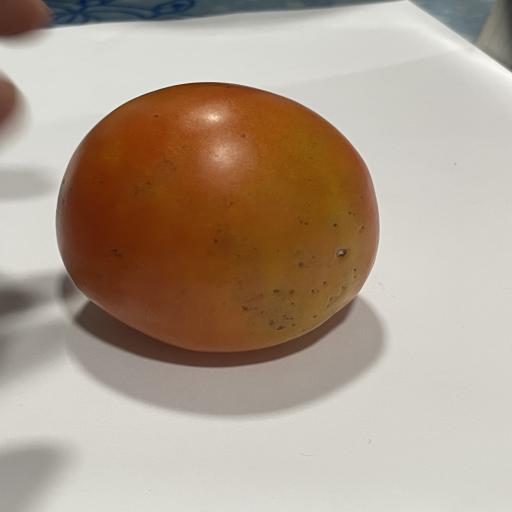unripe: (57, 83, 379, 352)
